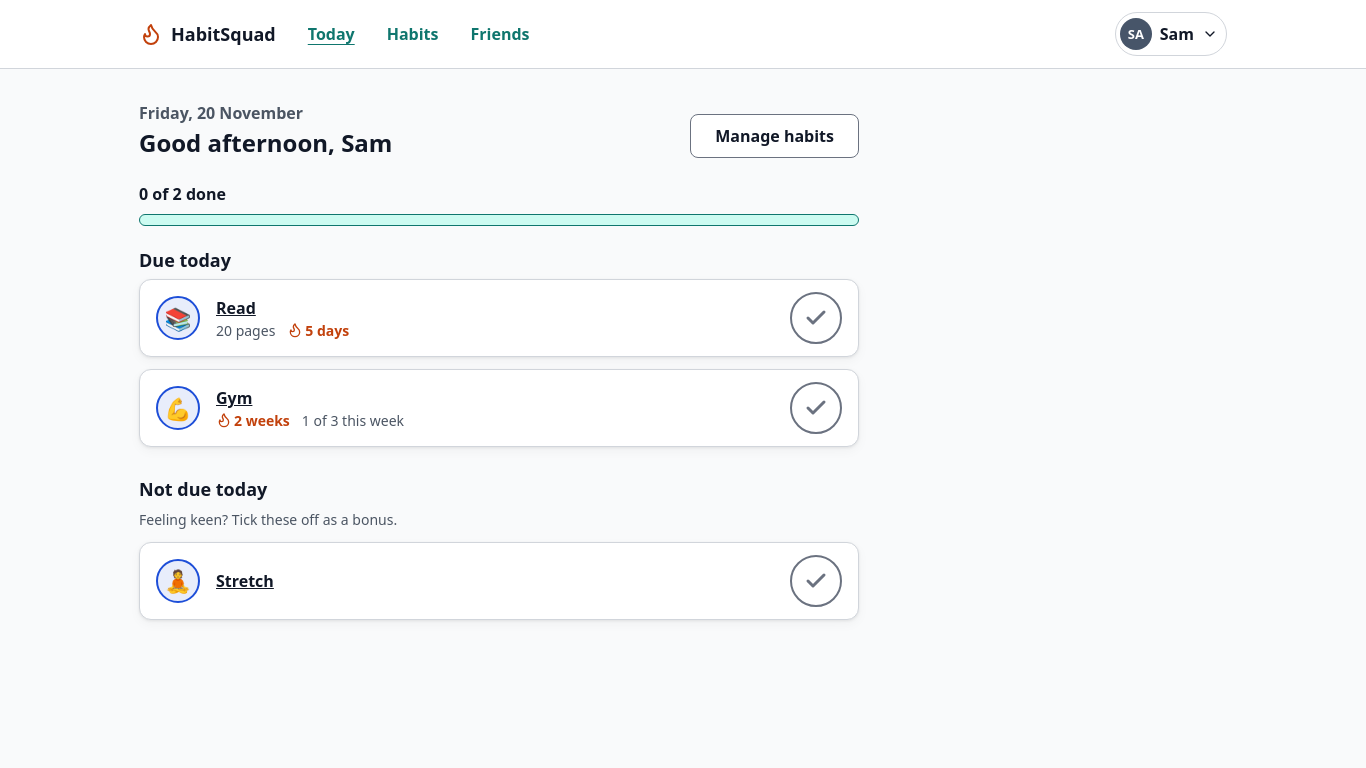
Test case: TodayPage › shows the backend's reason, e.g. an archived habit
The image size is (1366, 768).
expect the heading "Due today" is shown: met, box [139, 248, 231, 272]
Step 1. Click the button named "Mark Read as done" → (816, 318), box [790, 292, 842, 344]
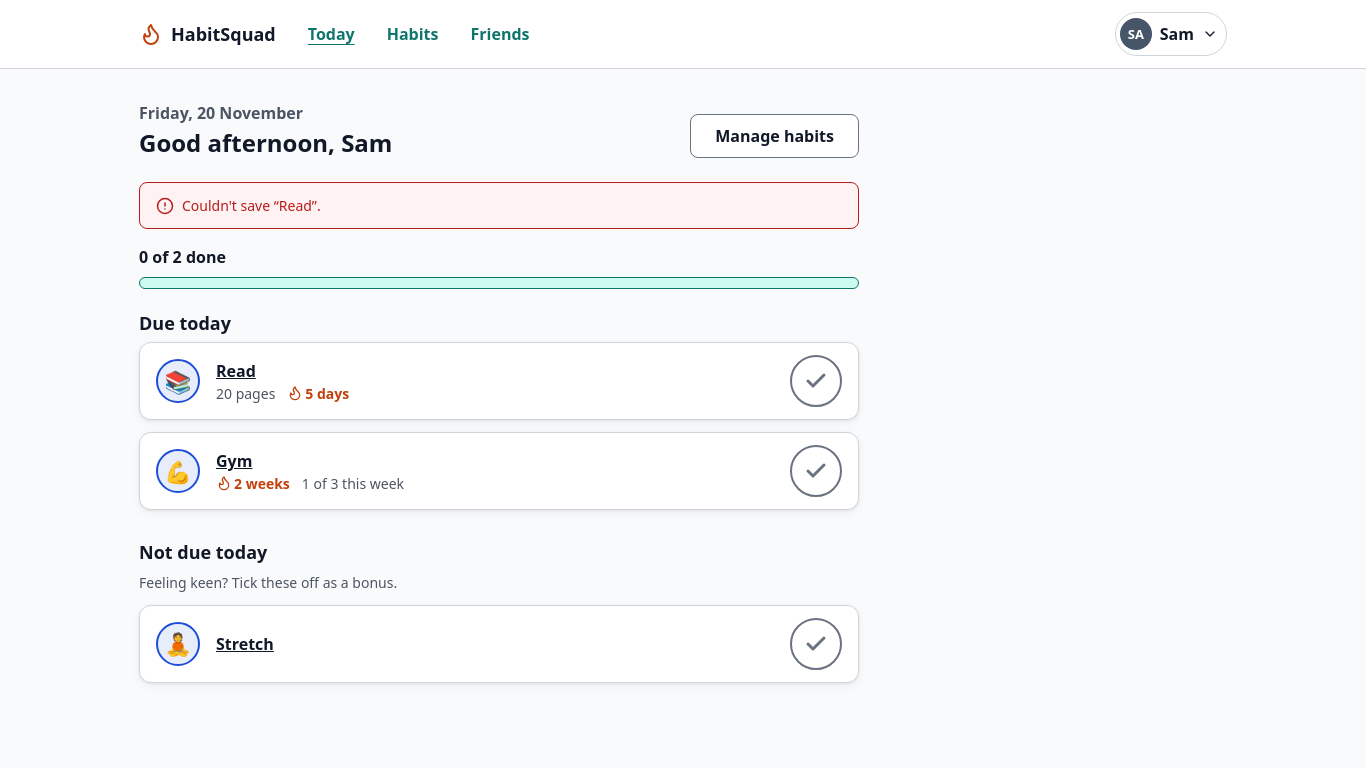
expect the message "Couldn't save “Read”." is shown: met, box [139, 182, 859, 229]
